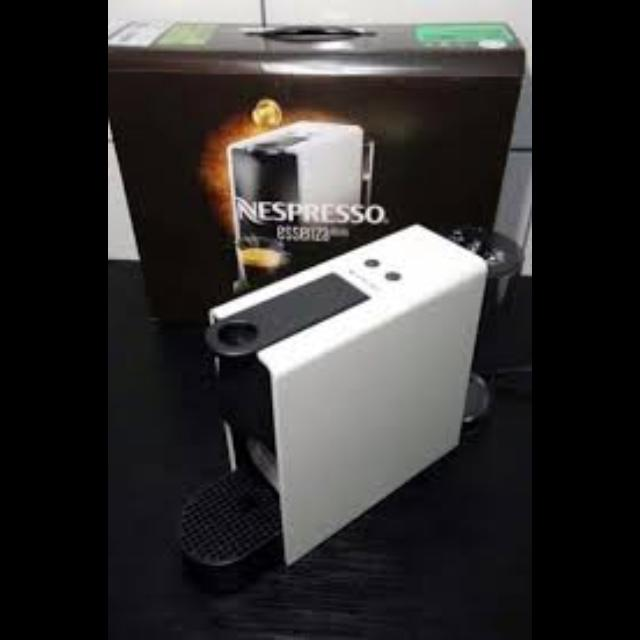Coffee-Machine: (176, 214, 526, 586)
